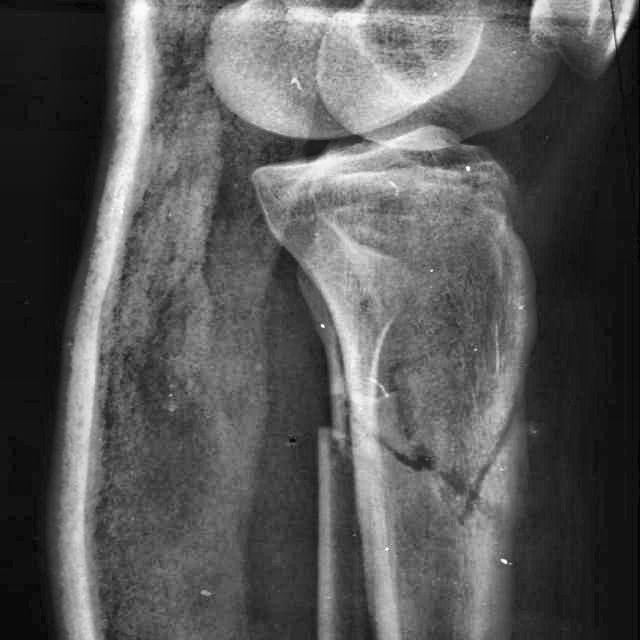Oblique Displaced: (312, 409, 528, 529)
